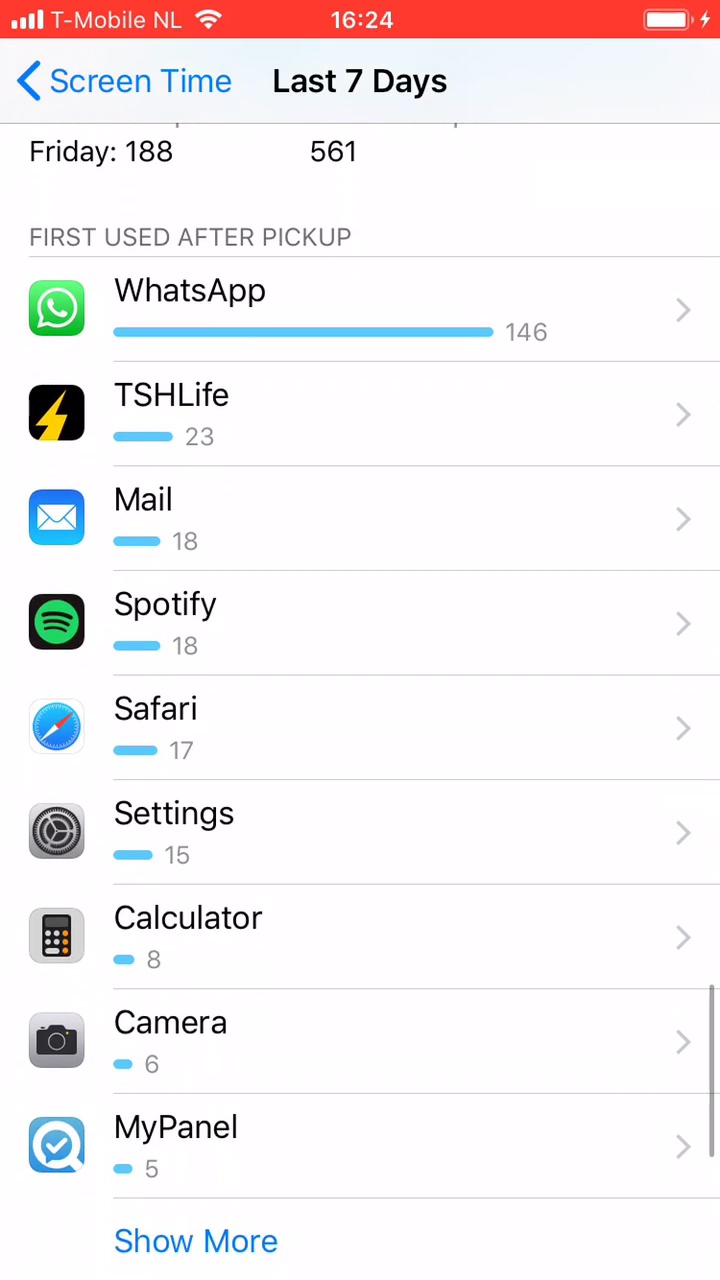pick_app: (20, 253, 578, 361), (15, 675, 303, 777), (18, 363, 303, 464), (18, 891, 307, 986), (18, 779, 281, 882), (20, 1099, 289, 1199), (15, 573, 291, 667), (17, 469, 268, 572), (20, 991, 287, 1087)
week: (266, 63, 454, 101)
